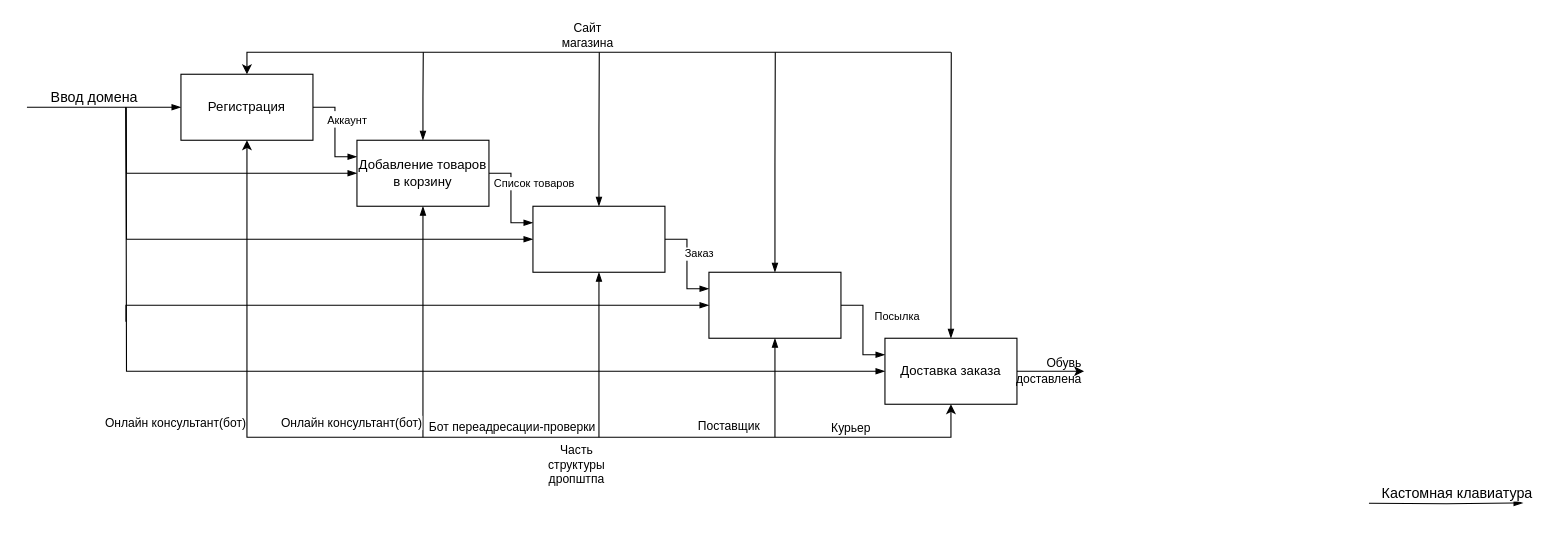
Some shapes in this 1552 by 551 pixel diagram are drawn without their labels. The box of each missing label's shape, as (x1, y1, x2, y2) in pixels:
Оформление покупки: (532, 205, 665, 272)
Составление посылки: (708, 271, 841, 338)
